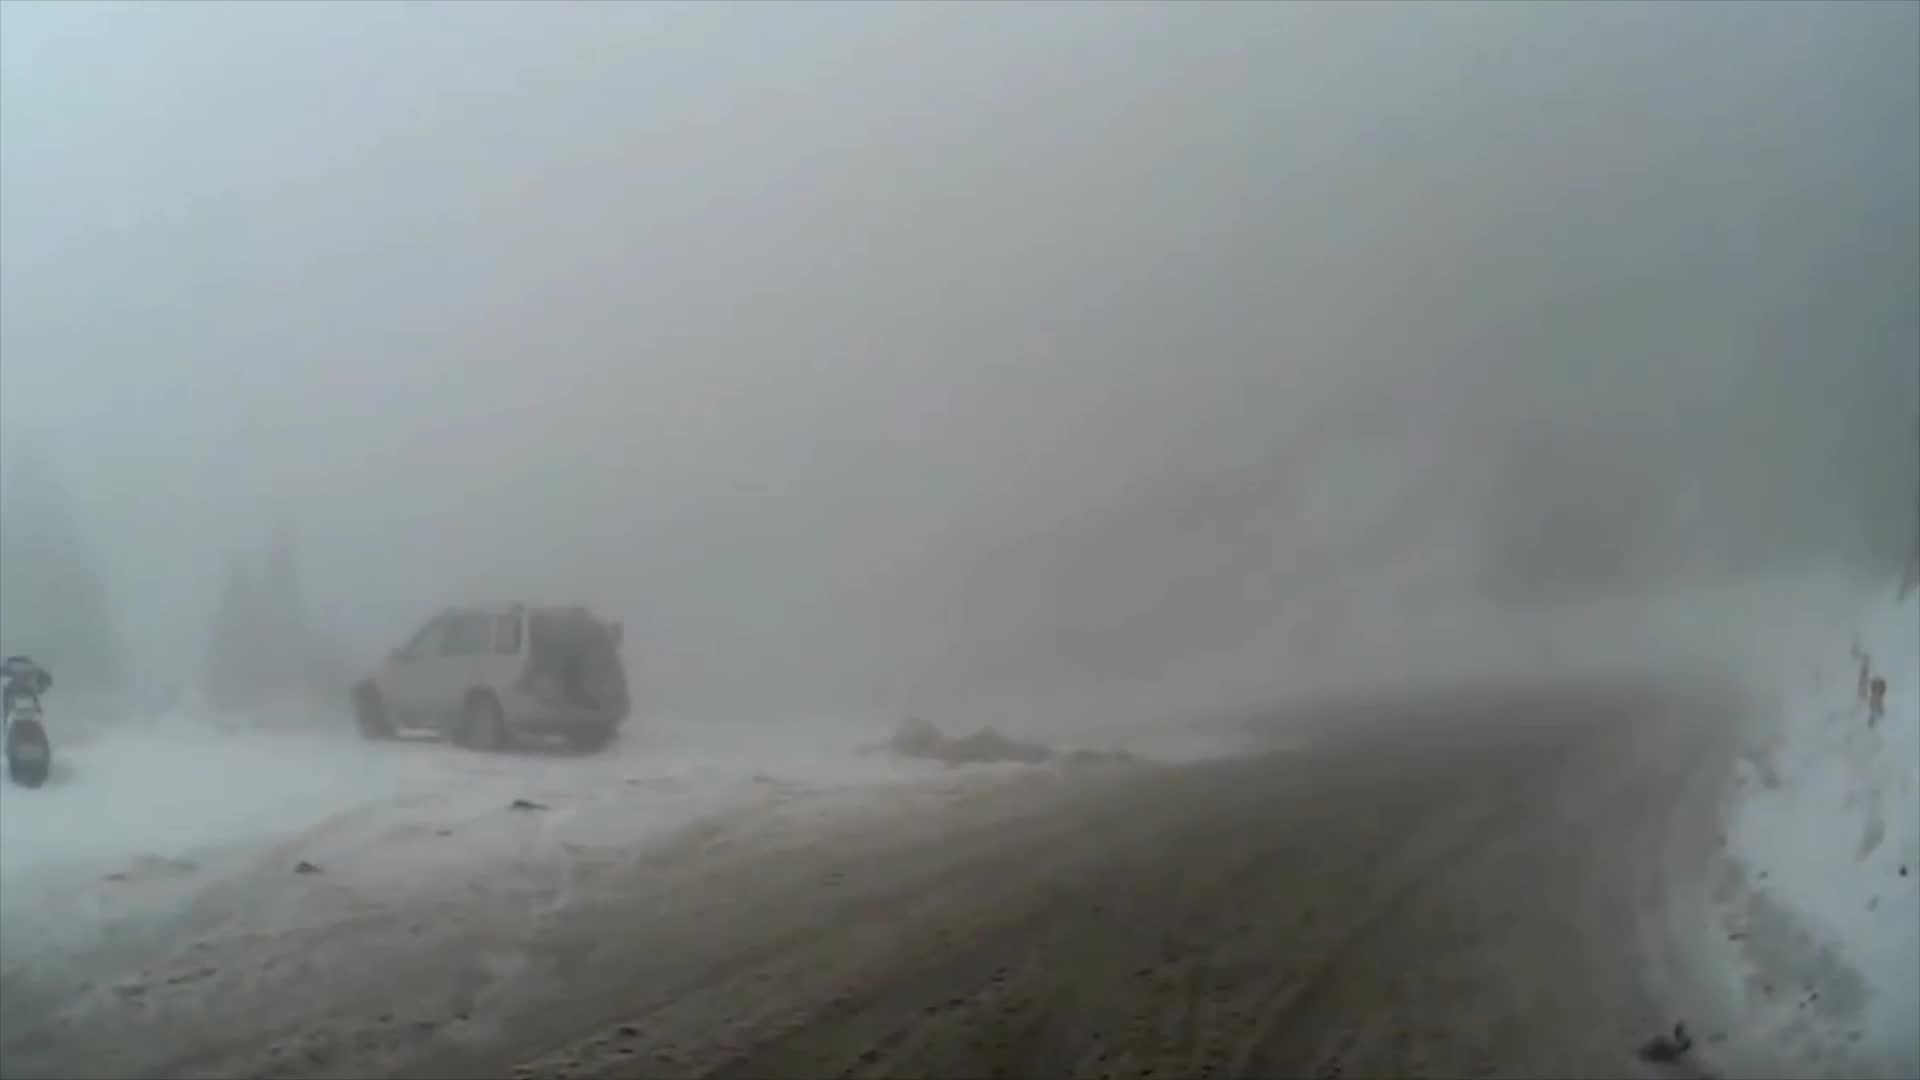vehicle: (342, 593, 626, 762)
